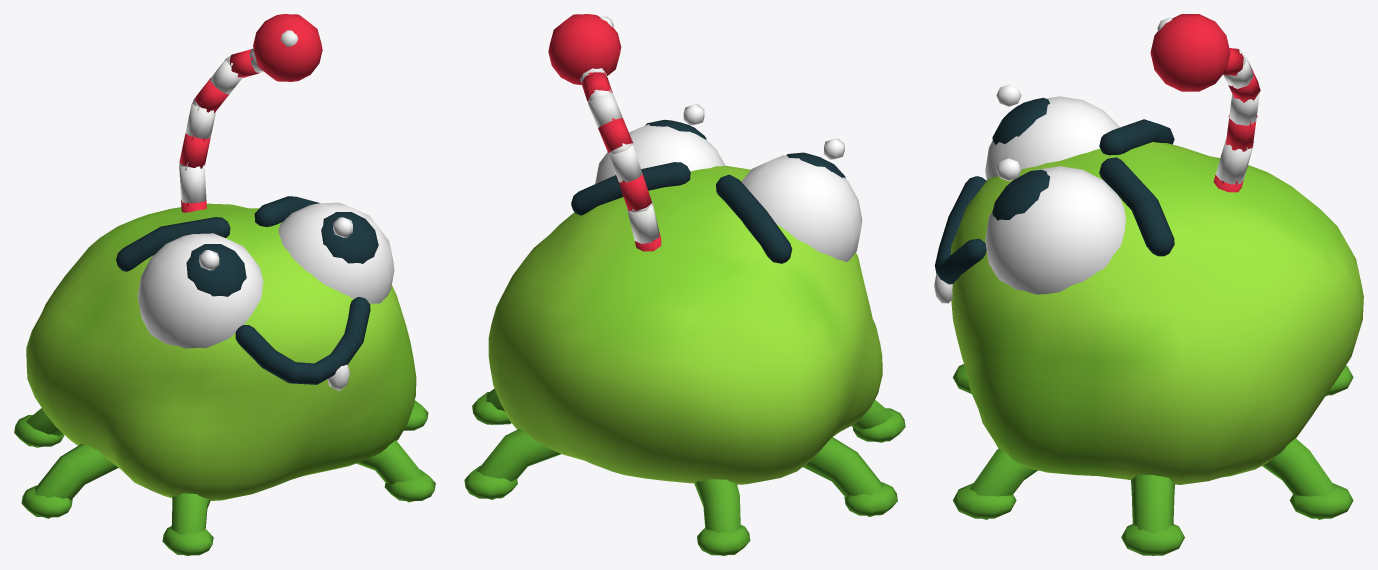
Rendered from sugar_bug.glb.
The picture shows the model from 3 angles, left to right: view 1: azimuth 30°, elevation 25°; view 2: azimuth 150°, elevation 25°; view 3: azimuth 270°, elevation 25°; orthographic projection. The views are drawn at different scales.
Visible parts, largest first — view 1: Body, EyeR, EyeL; view 2: Body, EyeR, EyeL; view 3: Body, EyeL, EyeR.
Part boxes in pixels (box(x1,y1,x2,y2)): Body: box(14, 14, 435, 555); EyeR: box(137, 233, 263, 348); EyeL: box(278, 202, 394, 303); Body: box(464, 14, 905, 555); EyeR: box(741, 138, 862, 261); EyeL: box(595, 104, 725, 183); Body: box(934, 14, 1363, 555); EyeL: box(985, 158, 1125, 294); EyeR: box(985, 84, 1120, 180).
Size of the model in its own units: 0.3918 by 0.4002 by 0.3225.
